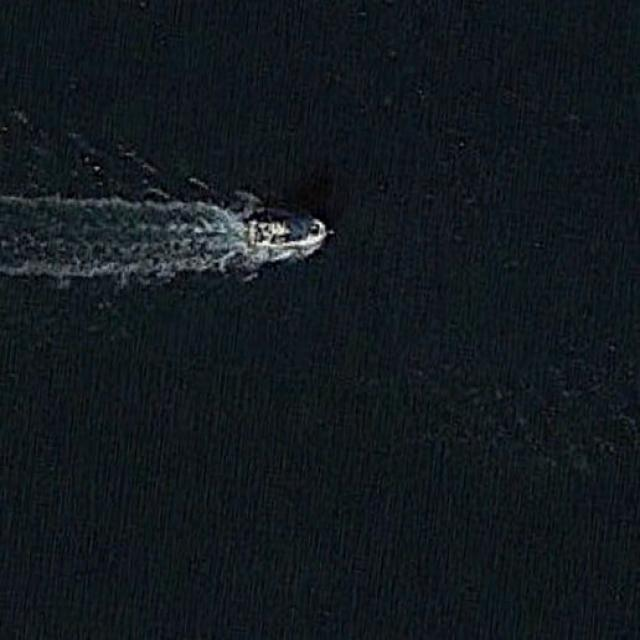boat: (242, 211, 331, 253)
